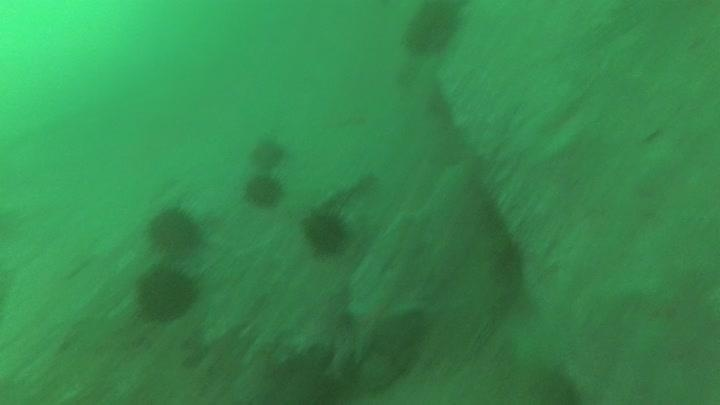echinus: (132, 261, 202, 324), (401, 1, 467, 57), (144, 201, 206, 258), (301, 205, 352, 257), (242, 172, 286, 209), (247, 134, 289, 171)
starfish: (341, 272, 428, 365)
